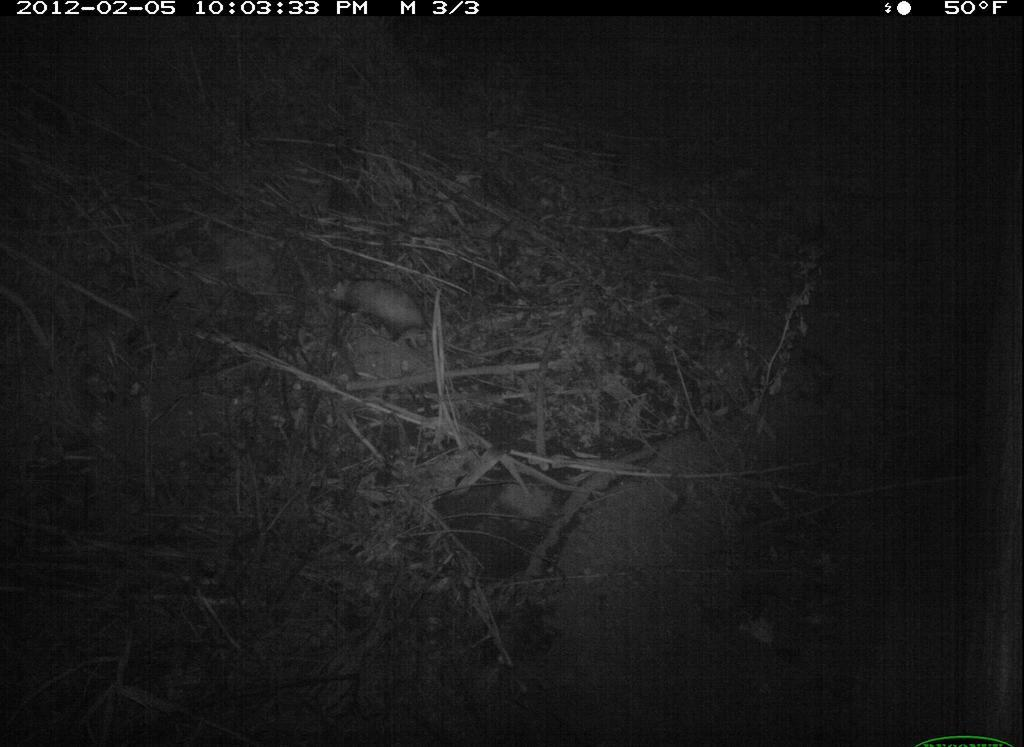opossum: (315, 265, 443, 364)
